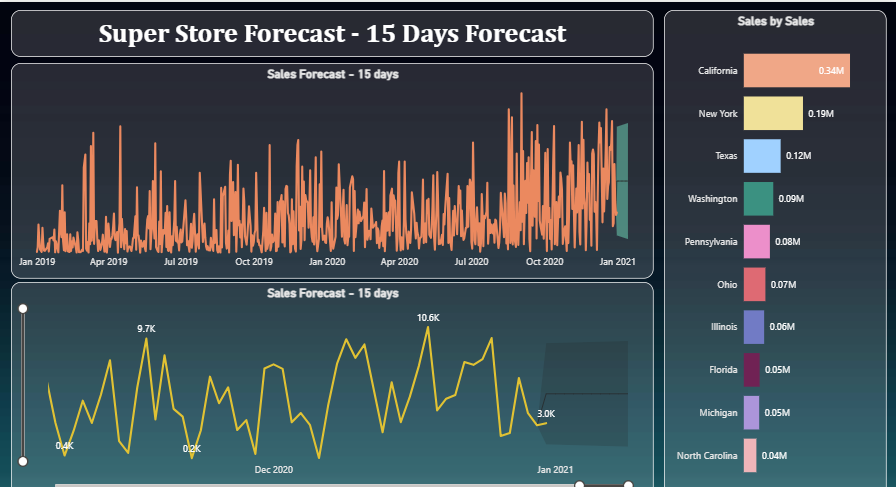

Layout of this report page (visuals, bound fields, positions):
{"tool":"powerbi","page":{"name":"Sales Forecasting","canvas":[1280,720],"ordinal":1},"visuals":[{"type":"textbox","box":[15,11.7,918.3,66.7],"z":0},{"type":"clusteredBarChart","title":"Sales by Sales","fields":{"Y":["Sum(SuperStore_Sales_Dataset.Sales)"],"Category":["SuperStore_Sales_Dataset.State"]},"box":[948.3,11.7,318.3,696.7],"z":1000},{"type":"lineChart","title":"Sales Forecast - 15 days","fields":{"Y":["Sum(SalesForecasting.Total Sale)"],"Category":["SalesForecasting.Order Date"]},"box":[15,86.7,918.3,308.3],"z":2000},{"type":"lineChart","title":"Sales Forecast - 15 days","fields":{"Category":["SuperStore_Sales_Dataset.Order Date"],"Y":["Sum(SuperStore_Sales_Dataset.Sales)"]},"box":[15,400,918.3,308.3],"z":3000}]}

Visuals, with their boxes in screenshot pixels (x1, y1, x2, y2):
textbox: pyautogui.locateOnScreen(15, 8, 651, 54)
"Sales by Sales" clusteredBarChart: pyautogui.locateOnScreen(661, 8, 882, 486)
"Sales Forecast - 15 days" lineChart: pyautogui.locateOnScreen(15, 60, 651, 274)
"Sales Forecast - 15 days" lineChart: pyautogui.locateOnScreen(15, 277, 651, 486)
